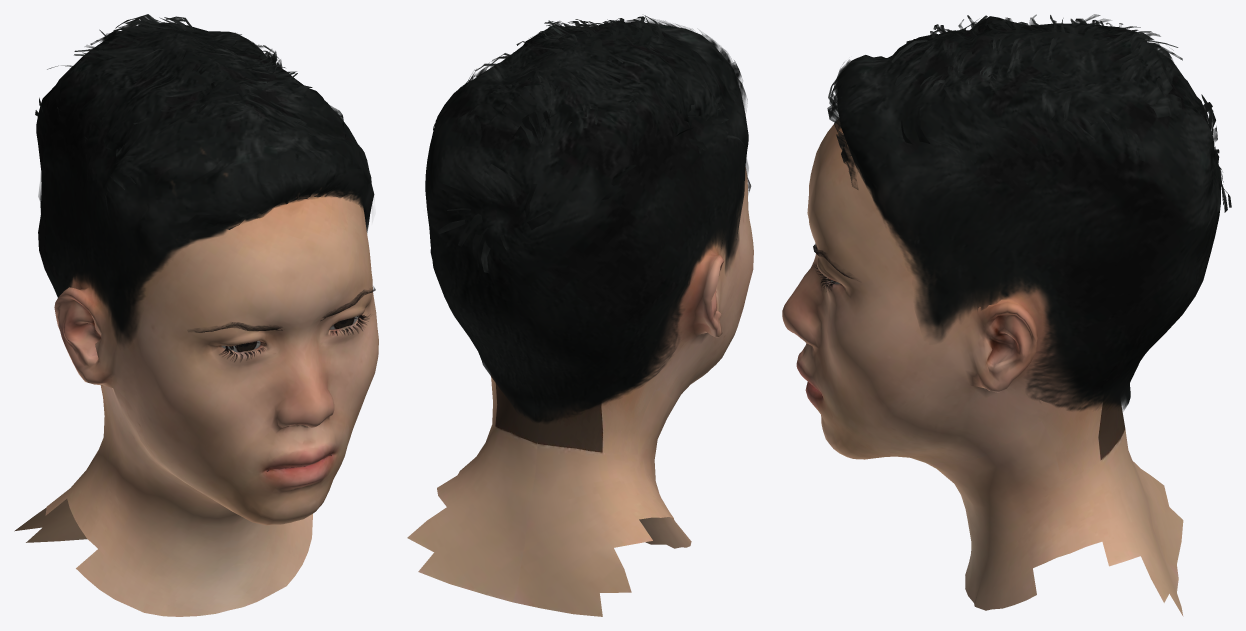
Rendered from patient06.glb.
The picture shows the model from 3 angles, left to right: view 1: azimuth 30°, elevation 25°; view 2: azimuth 150°, elevation 25°; view 3: azimuth 270°, elevation 25°; orthographic projection. The views are drawn at different scales.
Parts seen in each view (by area): view 1: jo_myeolchi.body, jo_myeolchi.short01, jo_myeolchi.eyebrow003, jo_myeolchi.eyelashes01; view 2: jo_myeolchi.short01, jo_myeolchi.body; view 3: jo_myeolchi.short01, jo_myeolchi.body.
Boxes of the visible parts, x1,y1,x2,y2 form: jo_myeolchi.body: (14,151,378,616); jo_myeolchi.short01: (35,14,374,346); jo_myeolchi.eyebrow003: (188,286,375,332); jo_myeolchi.eyelashes01: (219,314,370,361); jo_myeolchi.short01: (425,15,748,423); jo_myeolchi.body: (407,166,753,616); jo_myeolchi.short01: (827,14,1231,411); jo_myeolchi.body: (782,120,1183,616).
Bounding box in the file's own units: 0.1716 × 0.3123 × 0.2295.
8 materials, 7 textured.
